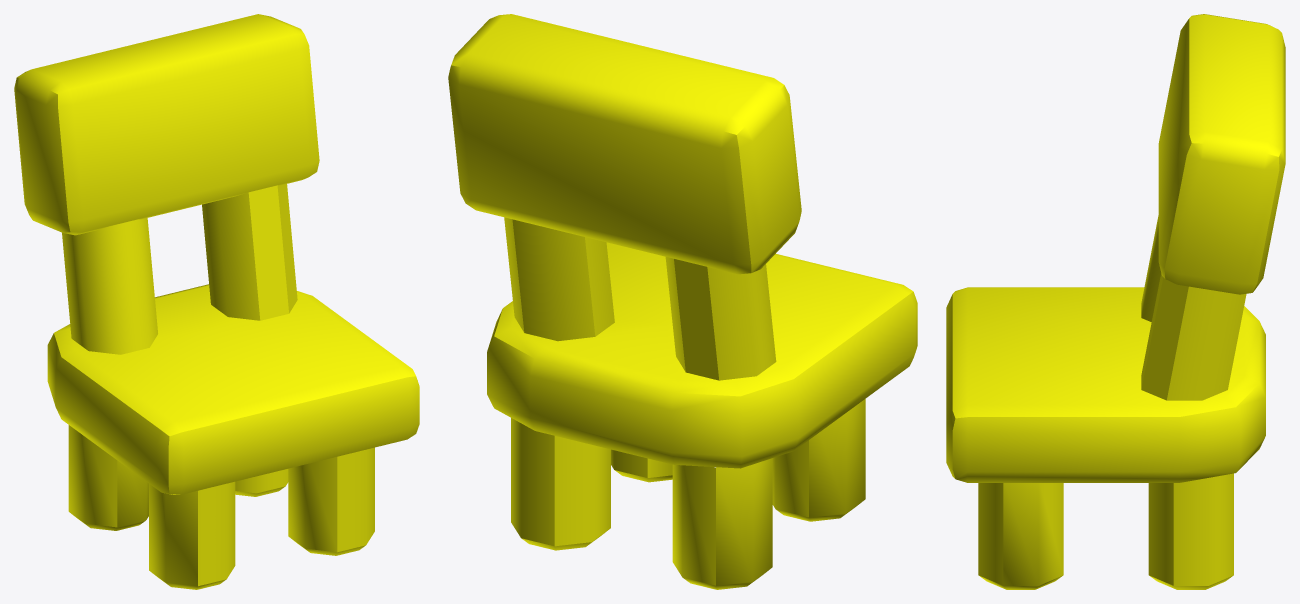
The model's file is chair_A.gltf.
3 renders of one model, left to right at view 1: azimuth 30°, elevation 25°; view 2: azimuth 150°, elevation 25°; view 3: azimuth 270°, elevation 25°, orthographic. The views are drawn at different scales.
Visible parts, largest first — view 1: chair_A; view 2: chair_A; view 3: chair_A.
Boxes of the visible parts, bbox=[...] form: chair_A: bbox=[14, 14, 419, 589]; chair_A: bbox=[448, 14, 917, 589]; chair_A: bbox=[946, 14, 1285, 589].
Size of the model in its own units: 0.75 by 1.21 by 0.7962.
1 material, 1 textured.
